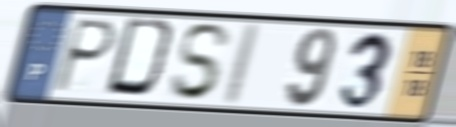3: (336, 28, 400, 113)
9: (282, 26, 342, 110)
D: (101, 15, 182, 103)
I: (218, 19, 265, 109)
P: (49, 16, 120, 95)
S: (167, 22, 234, 104)
